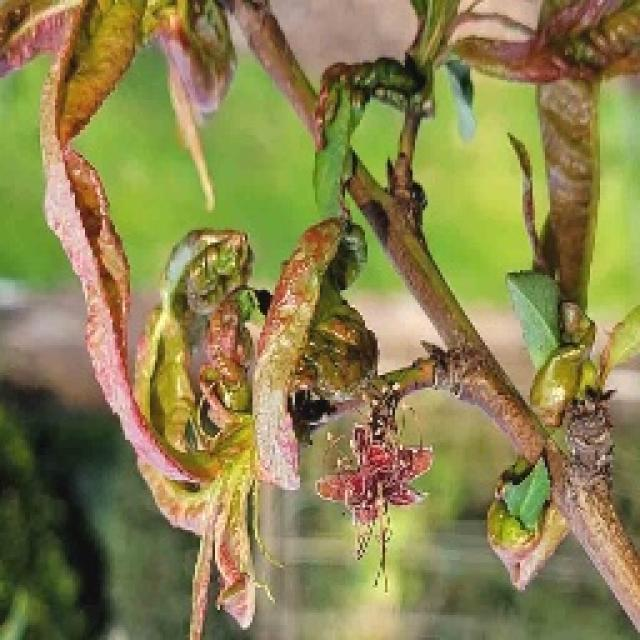peach_leaf_curl: (34, 8, 370, 640)
